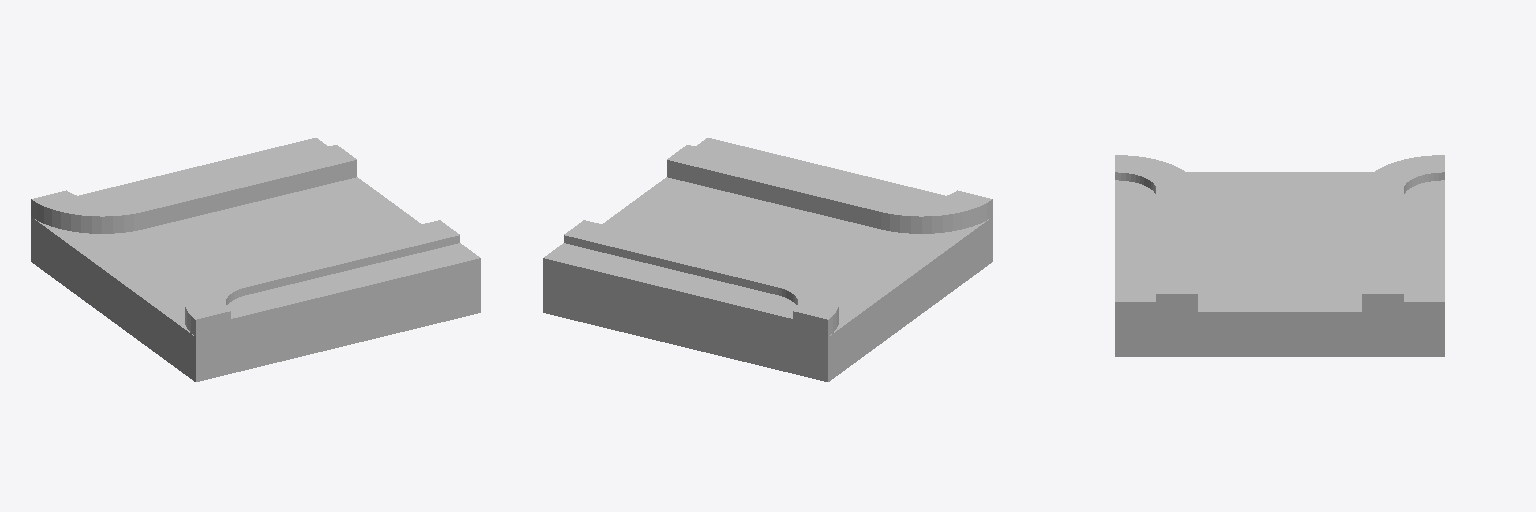
The model's file is tile133.obj.
3 renders of one model, left to right at view 1: azimuth 30°, elevation 25°; view 2: azimuth 150°, elevation 25°; view 3: azimuth 270°, elevation 25°, orthographic.
Visible parts, largest first — view 1: tile133; view 2: tile133; view 3: tile133.
Part boxes in pixels (x1,y1,x2,y2): tile133: (31, 138, 480, 381); tile133: (543, 138, 992, 381); tile133: (1115, 155, 1444, 356).
Bounding box in the file's own units: 1 × 0.21 × 1.